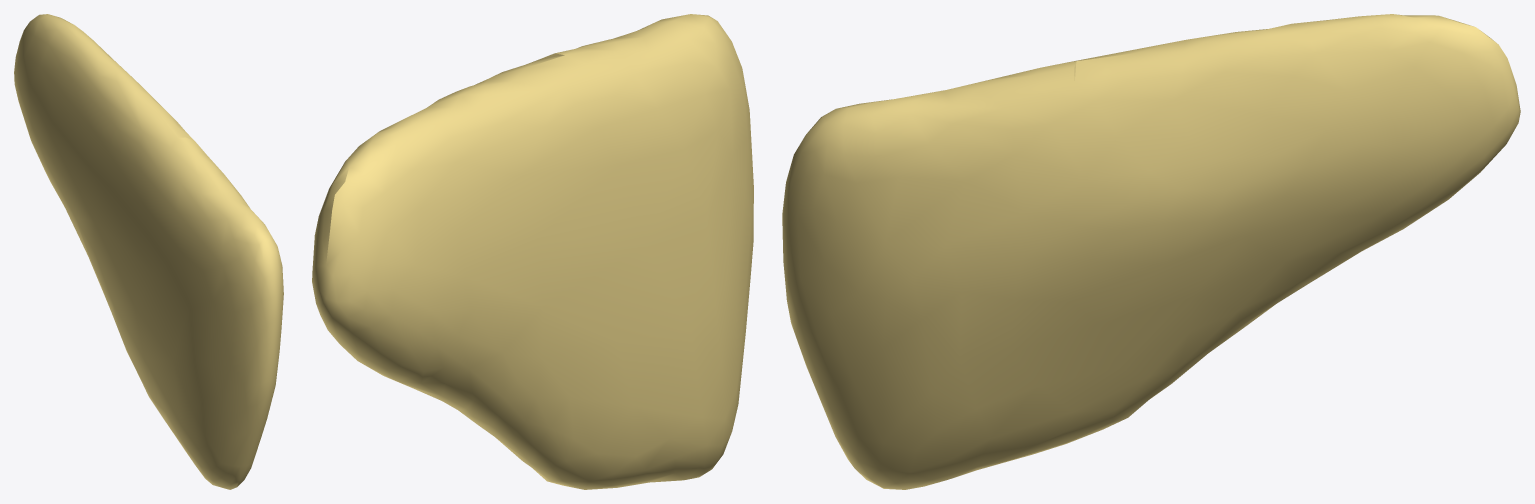
Rendered from fma72888_mm3057m.glb.
3 renders of one model, left to right at view 1: azimuth 30°, elevation 25°; view 2: azimuth 150°, elevation 25°; view 3: azimuth 270°, elevation 25°, orthographic. The views are drawn at different scales.
Visible parts, largest first — view 1: FMA72888_MM3057M; view 2: FMA72888_MM3057M; view 3: FMA72888_MM3057M.
Boxes of the visible parts, x1,y1,x2,y2 form: FMA72888_MM3057M: [14, 14, 283, 489]; FMA72888_MM3057M: [312, 14, 753, 489]; FMA72888_MM3057M: [782, 14, 1520, 489].
Size of the model in its own units: 0.00169 by 0.00614 by 0.00852.
